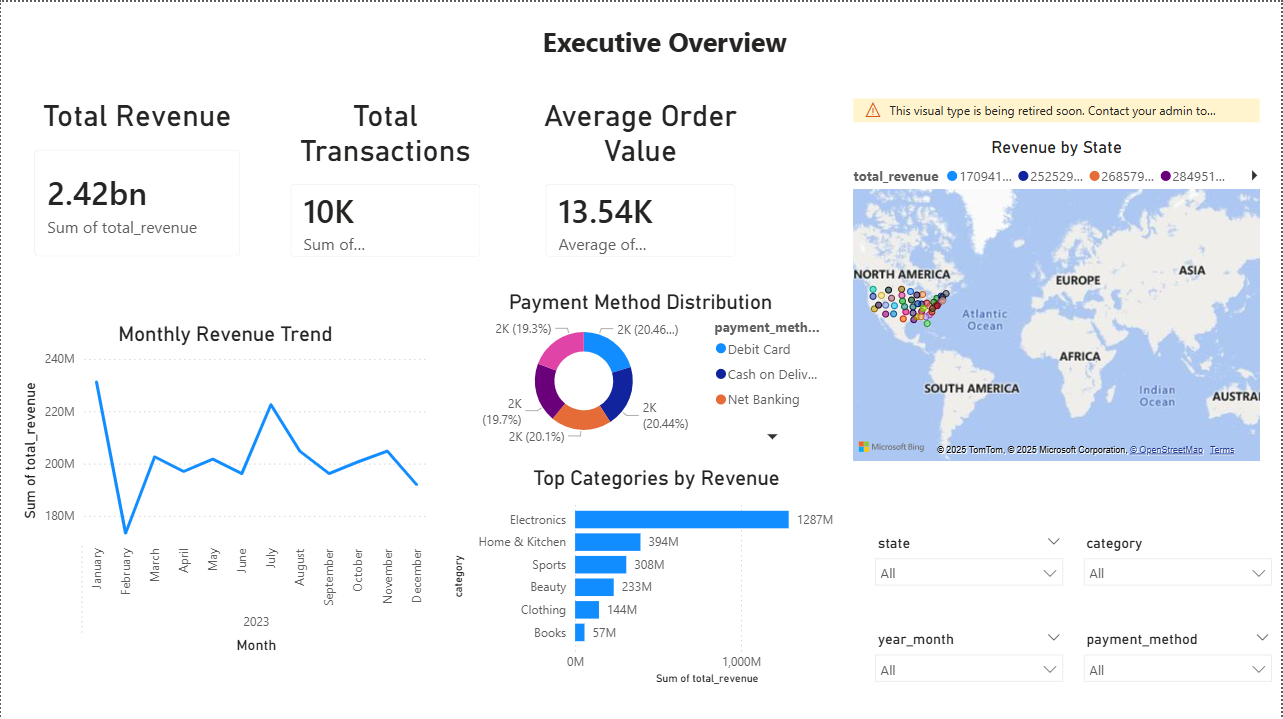

The dashboard page shown, as its layout file describes it:
{"tool":"powerbi","page":{"name":"Executive Overview","canvas":[1280,720],"ordinal":0},"visuals":[{"type":"cardVisual","title":"Total Revenue","fields":{"Data":["Sum(query2.total_revenue)"]},"box":[16,96,240,176],"z":0},{"type":"cardVisual","title":"Total Transactions","fields":{"Data":["Sum(query2.total_transactions)"]},"box":[272,96,224,176],"z":1000},{"type":"cardVisual","title":"Average Order Value","fields":{"Data":["Avg(query2.average_order_value)"]},"box":[528,96,224,176],"z":2000},{"type":"lineChart","title":"Monthly Revenue Trend","fields":{"Y":["Sum(query2.total_revenue)"],"Category":["query2.year_month.Variation.Date Hierarchy.Year","query2.year_month.Variation.Date Hierarchy.Month"]},"box":[16,320,416,336],"z":3000},{"type":"clusteredBarChart","title":"Top Categories by Revenue","fields":{"Category":["query4.category"],"Y":["Sum(query4.total_revenue)"]},"box":[448,464,416,224],"z":4000},{"type":"donutChart","title":"Payment Method Distribution","fields":{"Category":["query5.payment_method"],"Y":["Sum(query5.transaction_count)"]},"box":[448,288,384,160],"z":5000},{"type":"map","title":"Revenue by State","fields":{"Category":["query6.state"],"Series":["query6.total_revenue"]},"box":[848,96,416,368],"z":6000},{"type":"textbox","box":[448,16,432,48],"z":7000},{"type":"slicer","fields":{"Values":["query2.year_month"]},"box":[864,624,208,80],"z":7001},{"type":"slicer","fields":{"Values":["query4.category"]},"box":[1072,528,208,64],"z":7002},{"type":"slicer","fields":{"Values":["query6.state"]},"box":[864,528,208,64],"z":7003},{"type":"slicer","fields":{"Values":["query5.payment_method"]},"box":[1072,624,208,80],"z":7004}]}

Visuals, with their boxes in screenshot pixels (x1, y1, x2, y2), scaled from the page's 1280x720 canvas onto the 1283x719 screenshot:
"Total Revenue" cardVisual: [x1=16, y1=96, x2=257, y2=272]
"Total Transactions" cardVisual: [x1=273, y1=96, x2=497, y2=272]
"Average Order Value" cardVisual: [x1=529, y1=96, x2=754, y2=272]
"Monthly Revenue Trend" lineChart: [x1=16, y1=320, x2=433, y2=655]
"Top Categories by Revenue" clusteredBarChart: [x1=449, y1=463, x2=866, y2=687]
"Payment Method Distribution" donutChart: [x1=449, y1=288, x2=834, y2=447]
"Revenue by State" map: [x1=850, y1=96, x2=1267, y2=463]
textbox: [x1=449, y1=16, x2=882, y2=64]
slicer - query2.year_month: [x1=866, y1=623, x2=1075, y2=703]
slicer - query4.category: [x1=1075, y1=527, x2=1282, y2=591]
slicer - query6.state: [x1=866, y1=527, x2=1075, y2=591]
slicer - query5.payment_method: [x1=1075, y1=623, x2=1282, y2=703]
